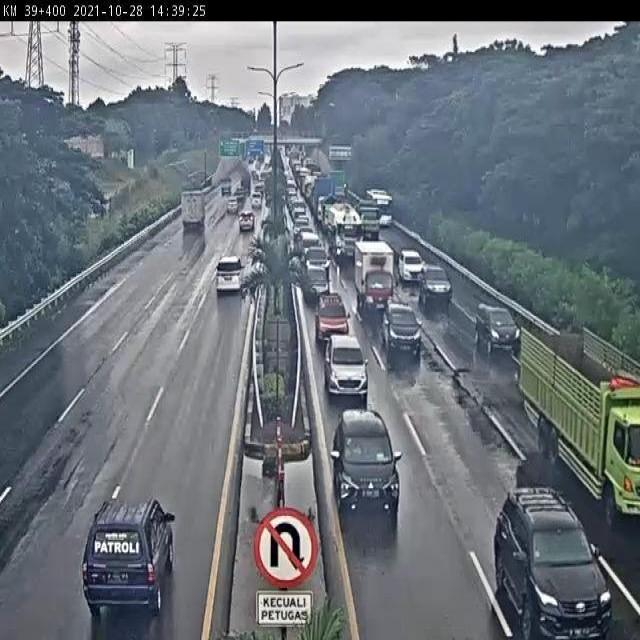big truck: (497, 316, 640, 509), (324, 197, 364, 267)
car: (486, 485, 614, 640), (74, 478, 178, 640), (330, 410, 403, 526), (319, 331, 370, 396), (472, 299, 519, 360), (379, 304, 424, 364), (308, 284, 352, 339), (418, 260, 455, 312), (211, 248, 246, 299), (395, 243, 422, 281), (232, 210, 258, 242), (247, 190, 265, 213), (222, 195, 242, 213)
small truck: (343, 234, 397, 314), (177, 182, 213, 238)
